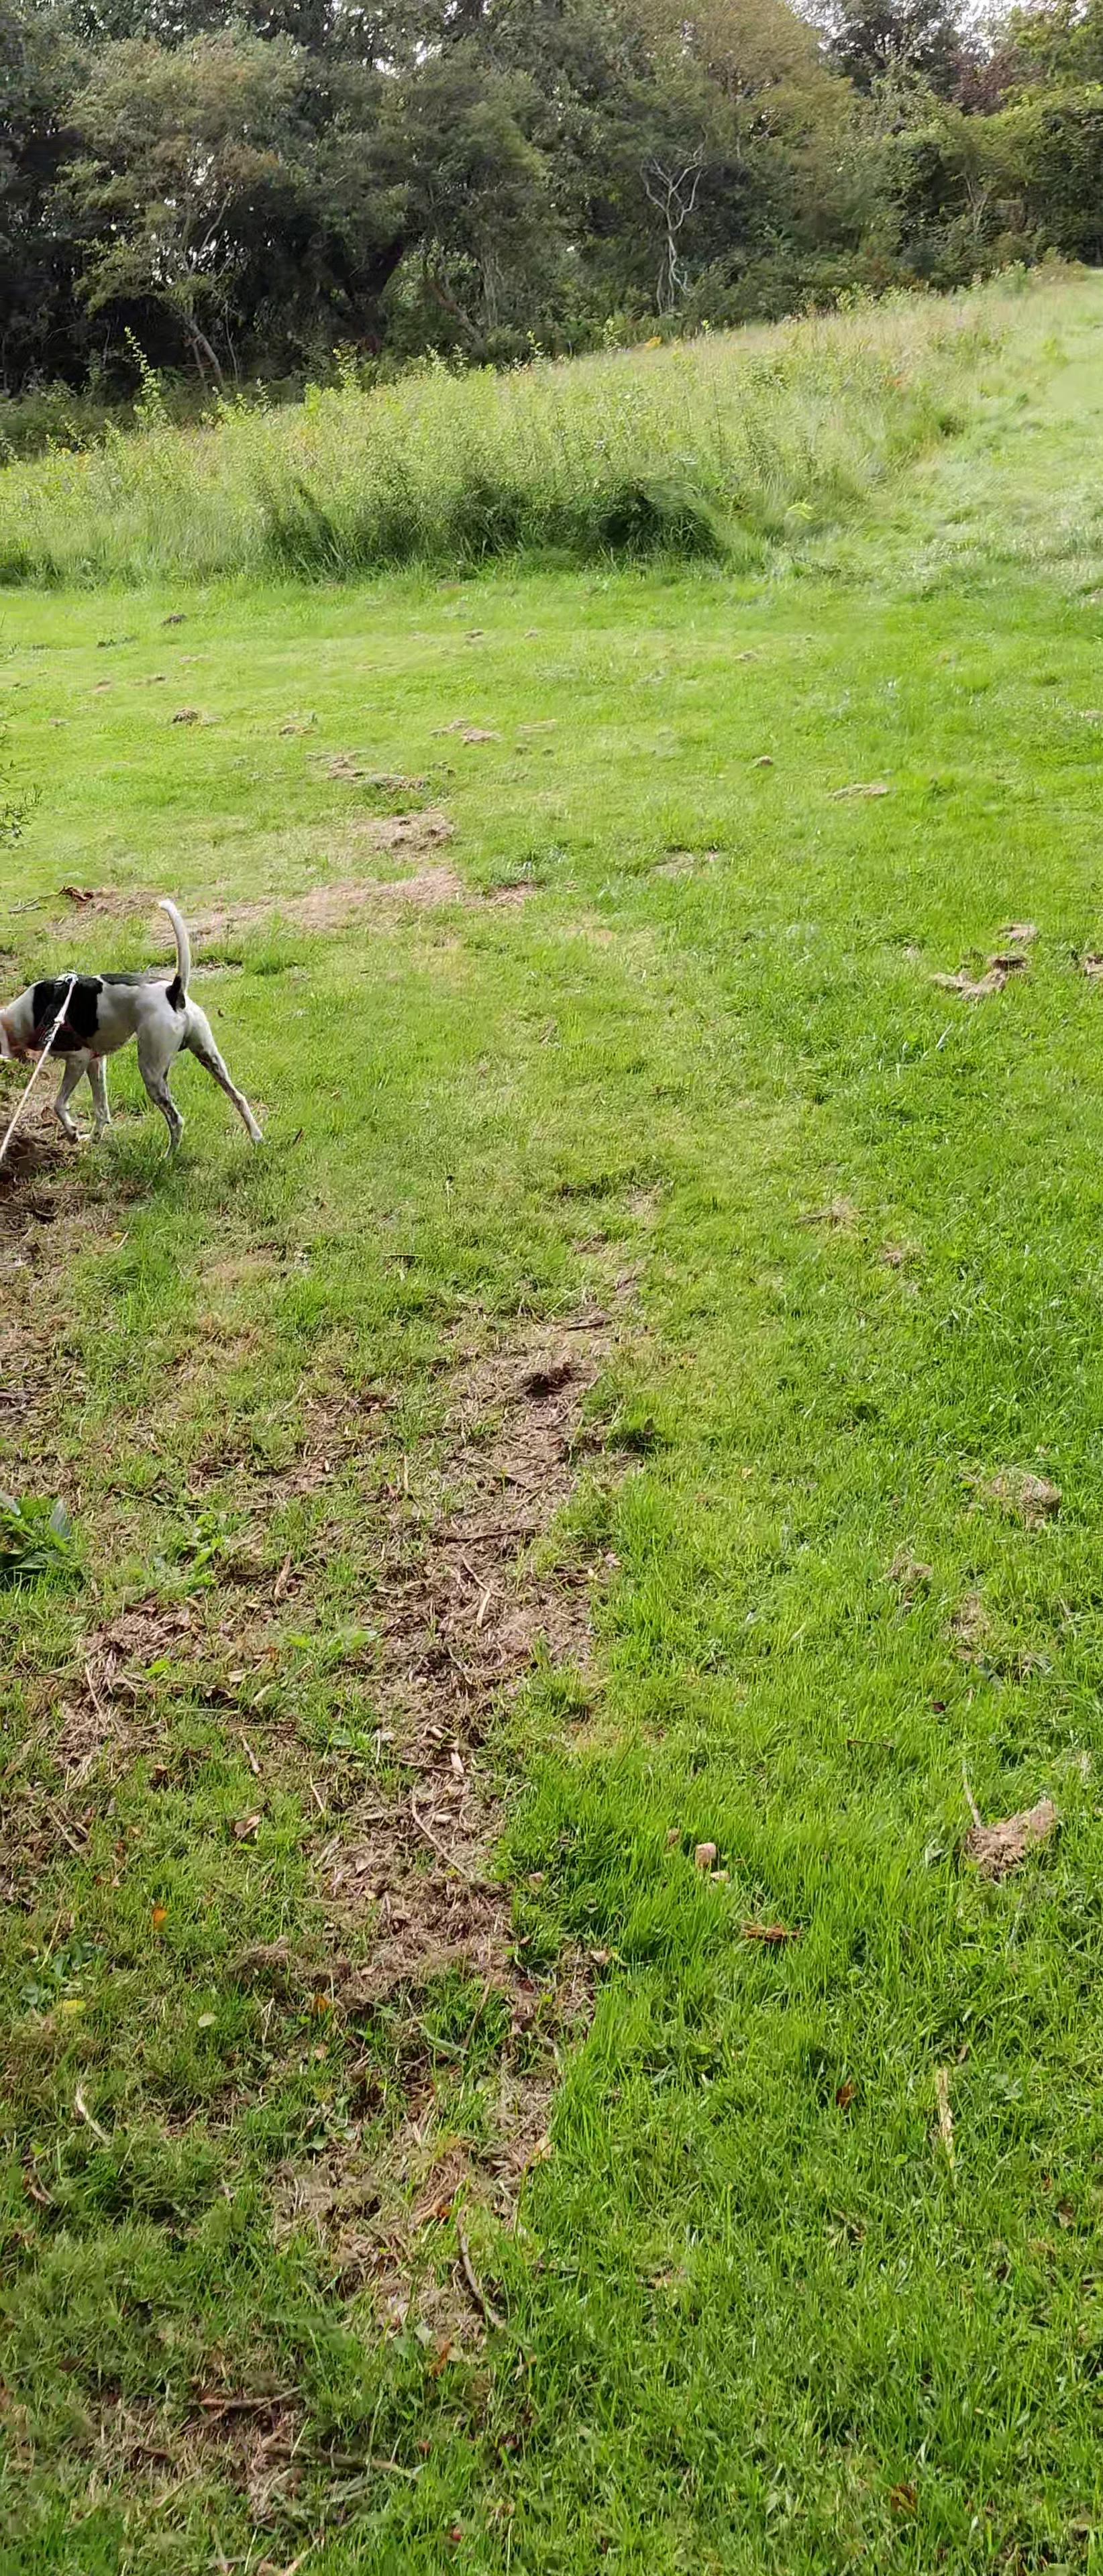Dog: (0, 889, 278, 1184)
